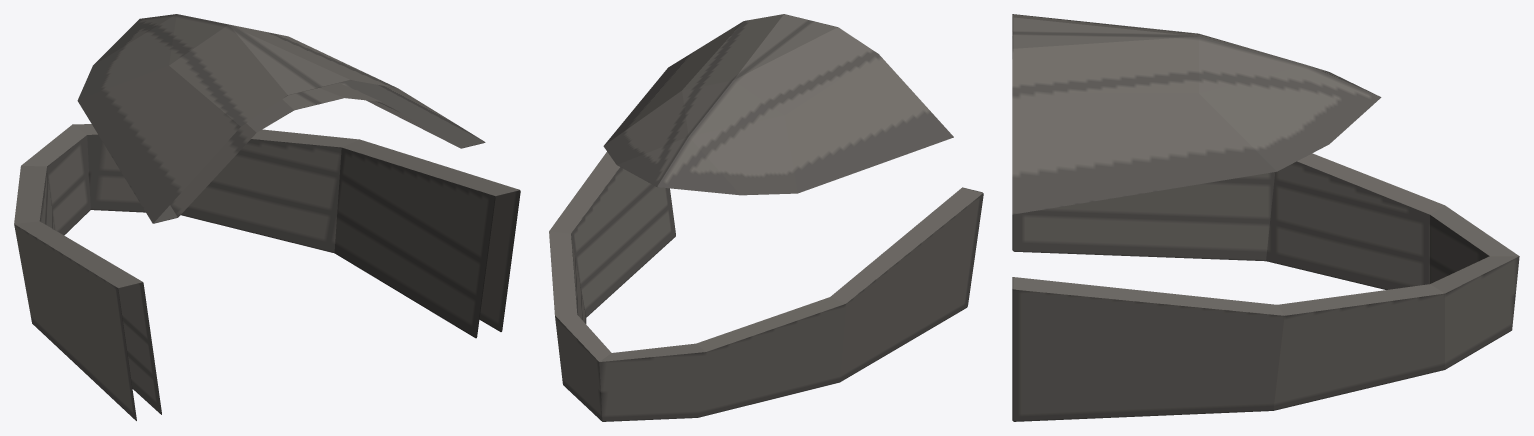
File: cockpit_walls.obj
3 views of the same model, side by side, from view 1: azimuth 30°, elevation 25°; view 2: azimuth 150°, elevation 25°; view 3: azimuth 270°, elevation 25° (orthographic). The views are drawn at different scales.
Parts seen in each view (by area): view 1: wall_l, wall_u; view 2: wall_l, wall_u; view 3: wall_l, wall_u.
Boxes of the visible parts, bbox=[...] form: wall_l: bbox=[14, 124, 520, 420]; wall_u: bbox=[77, 14, 485, 223]; wall_l: bbox=[549, 152, 983, 421]; wall_u: bbox=[603, 14, 953, 195]; wall_l: bbox=[1012, 153, 1519, 421]; wall_u: bbox=[1012, 14, 1381, 214].
Size of the model in its own units: 4 by 2.75 by 4.25.
Materials: 1 (1 with a texture image).
